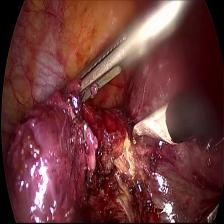Grasper: (71, 8, 141, 113)
Hook: (130, 105, 177, 162)
